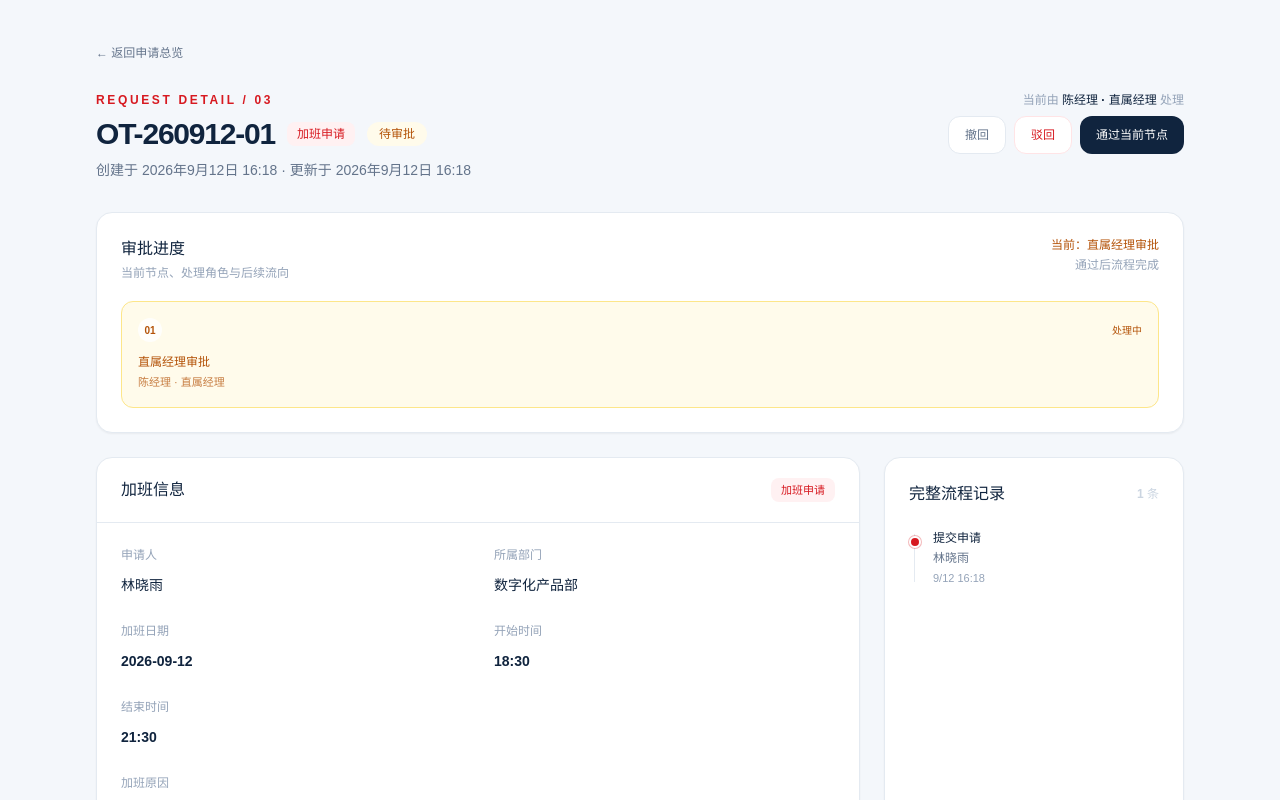
Test: application detail page › approves a one-step overtime process
What coordinates should you click on to do the following:
click the button "通过当前节点"
I would click on:
 (1132, 135)
Its box is x1=1080 y1=116 x2=1184 y2=154.
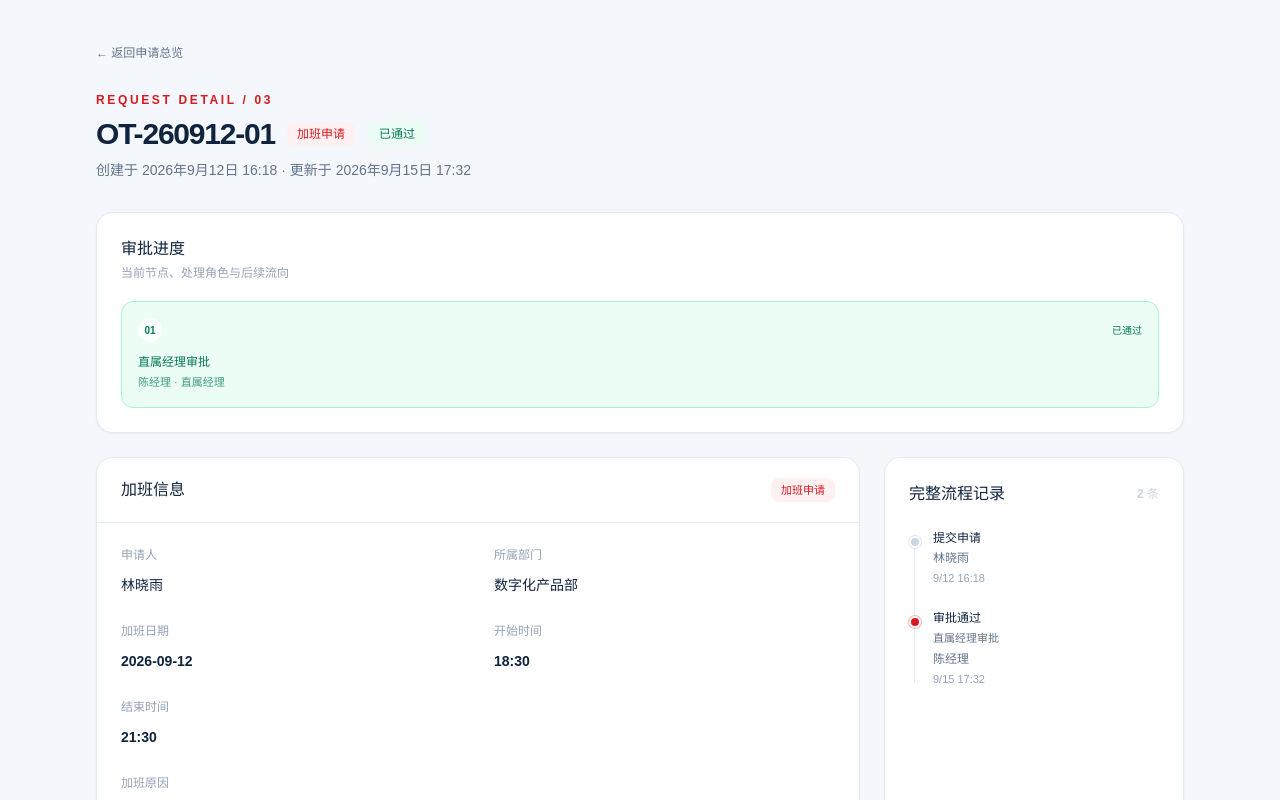
Check: the text "已通过" in the row of "OT-260912-01" is shown, box x1=379 y1=127 x2=415 y2=141
